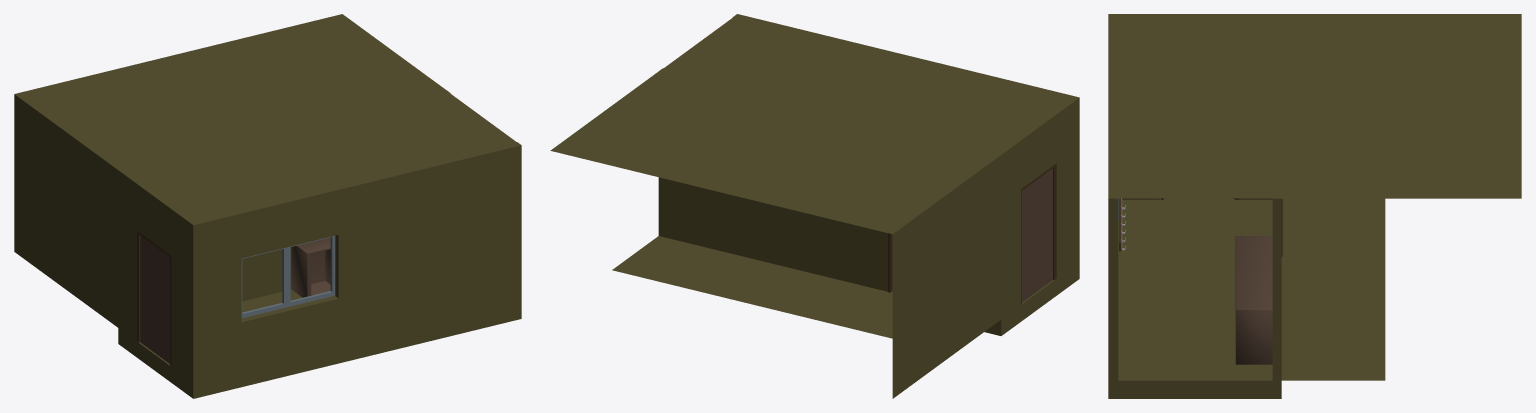
The model's file is Puerta_Altar.fbx.
3 views of the same model, side by side, from view 1: azimuth 30°, elevation 25°; view 2: azimuth 150°, elevation 25°; view 3: azimuth 270°, elevation 25° (orthographic). The views are drawn at different scales.
Visible parts, largest first — view 1: Estructura_Casa, Puerta, Mueble, Marco_Ventana, Marco_PuertaP; view 2: Estructura_Casa, Puerta, Marco_PuertaP; view 3: Estructura_Casa, Mueble.
Part boxes in pixels (<box>): Estructura_Casa: <box>14,14,521,398</box>; Puerta: <box>140,236,169,363</box>; Mueble: <box>291,237,330,297</box>; Marco_Ventana: <box>241,235,335,318</box>; Marco_PuertaP: <box>137,231,171,365</box>; Estructura_Casa: <box>550,14,1079,398</box>; Puerta: <box>1022,168,1052,302</box>; Marco_PuertaP: <box>1021,164,1055,304</box>; Estructura_Casa: <box>1108,14,1521,398</box>; Mueble: <box>1235,236,1272,364</box>.
Bounding box in the file's own units: 2368 × 1198 × 2239.
